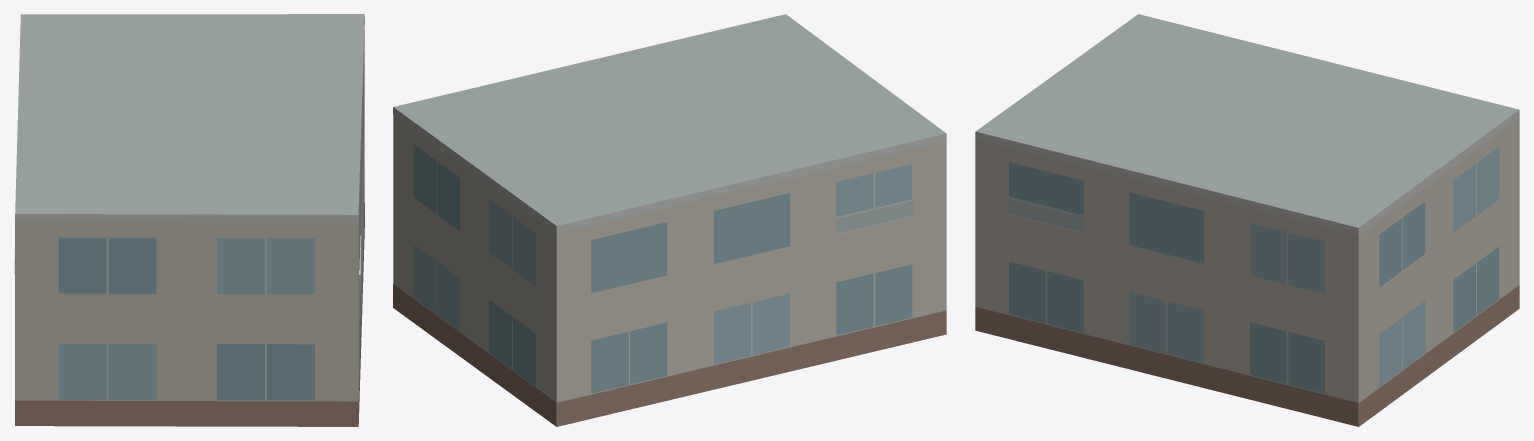
The model's file is survey-upis-32664274.glb.
3 views of the same model, side by side, from view 1: azimuth 30°, elevation 25°; view 2: azimuth 150°, elevation 25°; view 3: azimuth 270°, elevation 25° (orthographic). The views are drawn at different scales.
Parts seen in each view (by area): view 1: survey-upis-32664274.tmp; view 2: survey-upis-32664274.tmp; view 3: survey-upis-32664274.tmp.
Boxes of the visible parts, x1,y1,x2,y2 form: survey-upis-32664274.tmp: (14, 14, 364, 426); survey-upis-32664274.tmp: (393, 14, 946, 426); survey-upis-32664274.tmp: (975, 14, 1519, 426).
Bounding box in the file's own units: 14.07 × 6.1 × 15.12.
